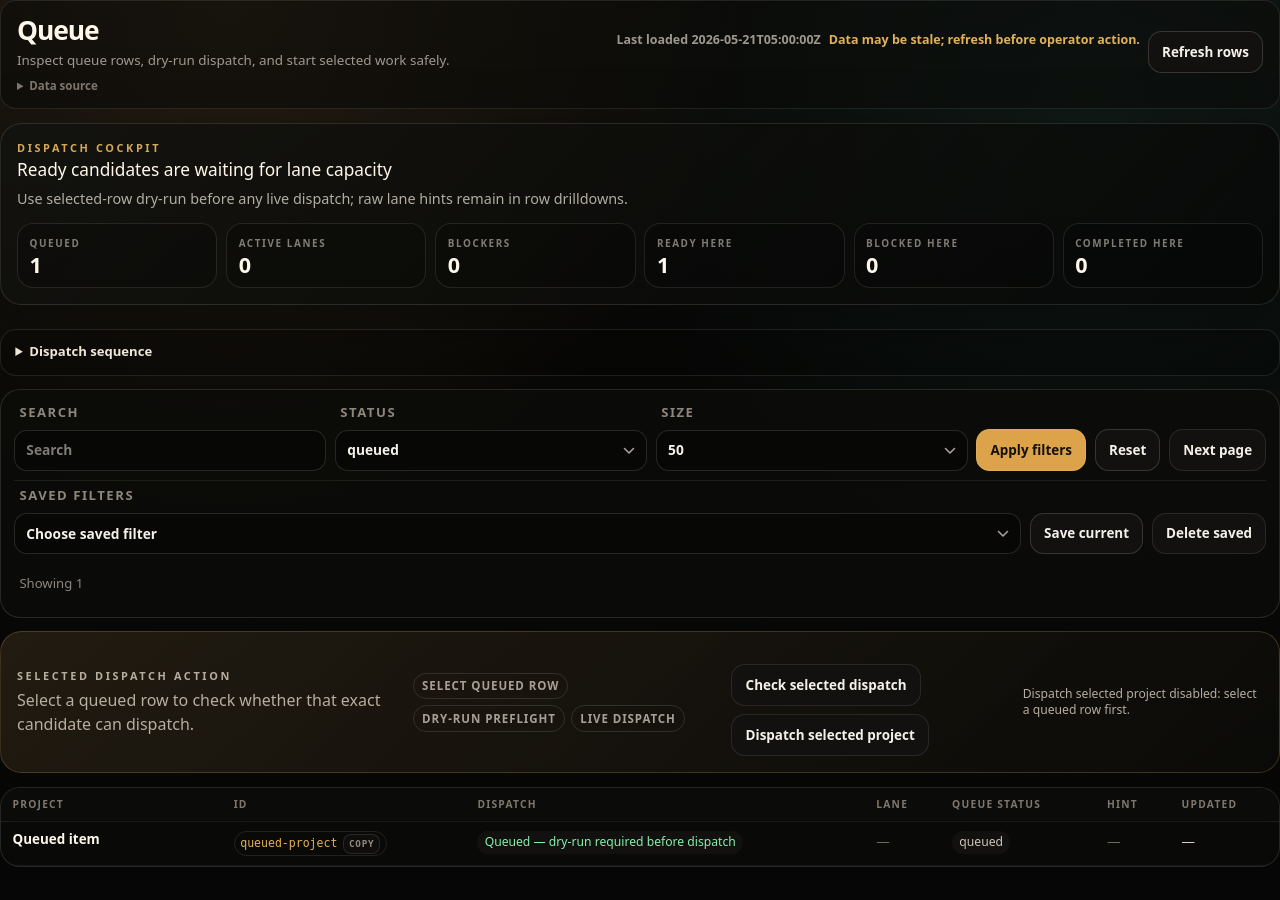
Test: refreshes queue rows explicitly from the V2 page
This screenshot has width=1280, height=900.
Expected: the text "Queued item" is shown, [12,830,100,848]
Click the button "Refresh rows": [1205, 52] box [1148,31,1263,73]
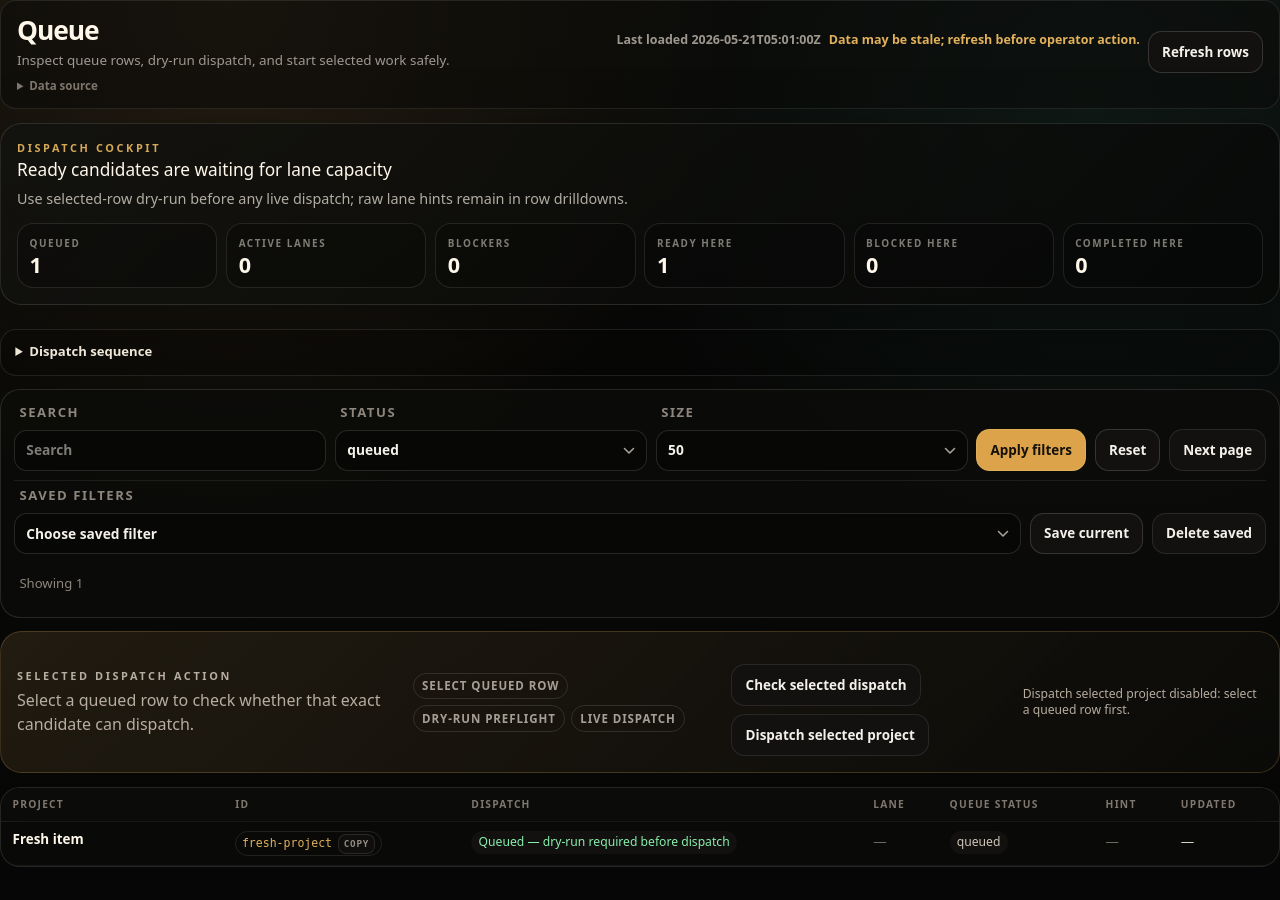
Now the text "Fresh item" is shown, box [12,830,84,848]
Now the text "Last loaded 2026-05-21T05:01:00Z" is shown, box [616,31,821,48]
